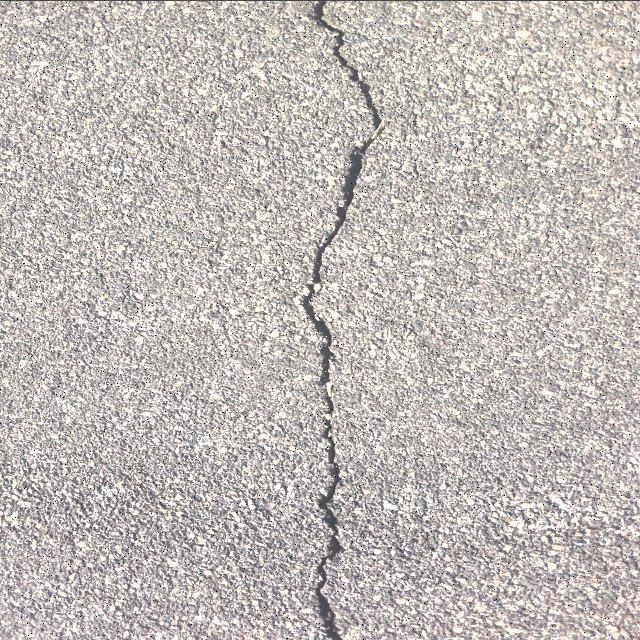Crack: (305, 0, 386, 640)
